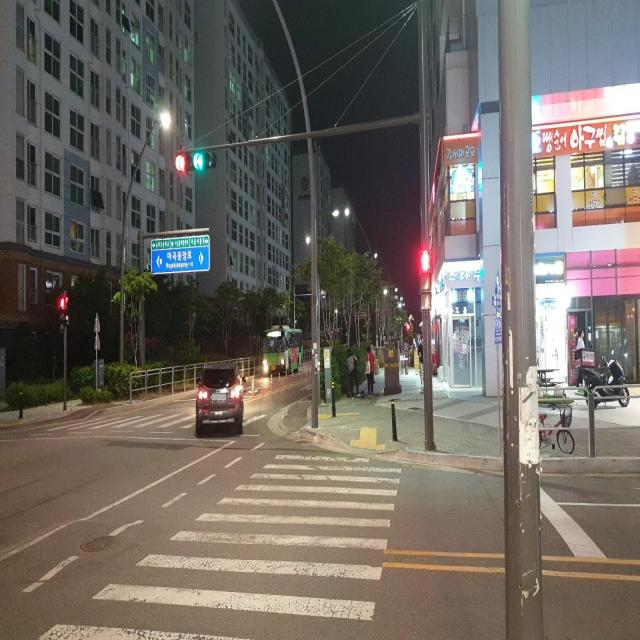빨간불: (420, 252, 430, 308), (59, 296, 68, 334)
횡단보도: (32, 449, 404, 640), (45, 410, 268, 431)
